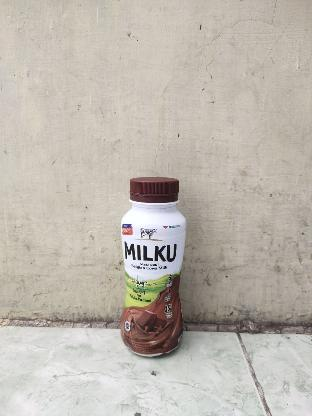Plastic Bottle: (119, 175, 186, 356)
